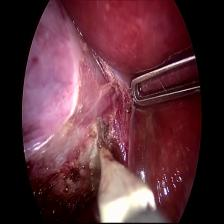Grasper: (127, 49, 203, 114)
Hook: (90, 122, 157, 223)
